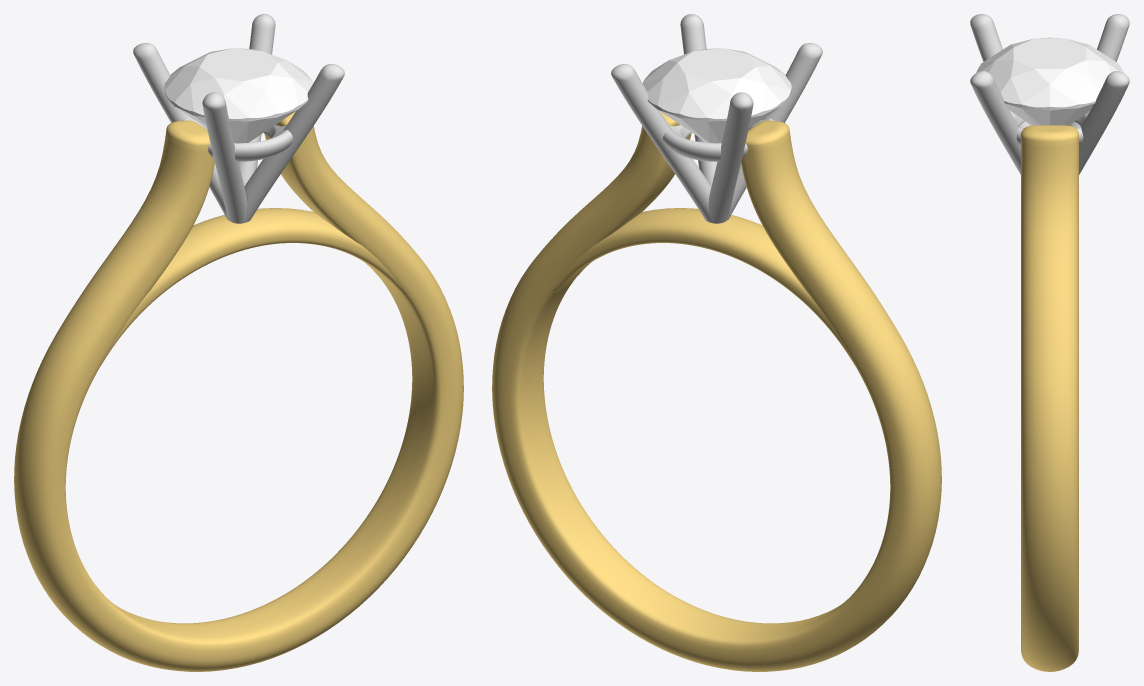
File: buildaring.glb
3 views of the same model, side by side, from view 1: azimuth 30°, elevation 25°; view 2: azimuth 150°, elevation 25°; view 3: azimuth 270°, elevation 25° (orthographic).
Visible parts, largest first — view 1: shank, head, diamond; view 2: shank, head, diamond; view 3: shank, diamond, head.
Boxes of the visible parts, box(x1,y1,x2,y2) form: shank: box(14, 111, 463, 671); head: box(133, 14, 344, 223); diamond: box(164, 48, 313, 143); shank: box(492, 111, 941, 671); head: box(611, 14, 822, 223); diamond: box(642, 48, 791, 143); shank: box(1021, 125, 1078, 671); diamond: box(976, 37, 1123, 125); head: box(970, 14, 1129, 174).
Size of the model in its own units: 2.37 by 3.13 by 0.7495.
